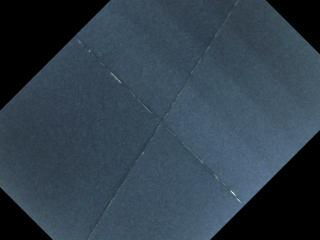crack: (84, 0, 242, 240), (73, 37, 246, 201)
